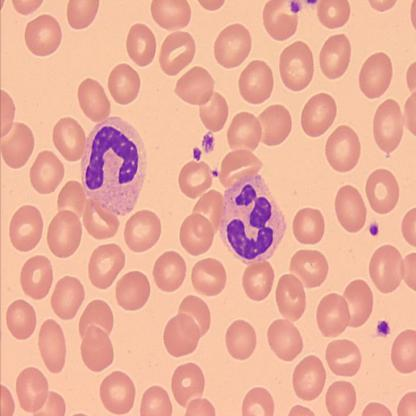Band Neutrophil: (78, 112, 149, 218), (218, 170, 289, 266)
